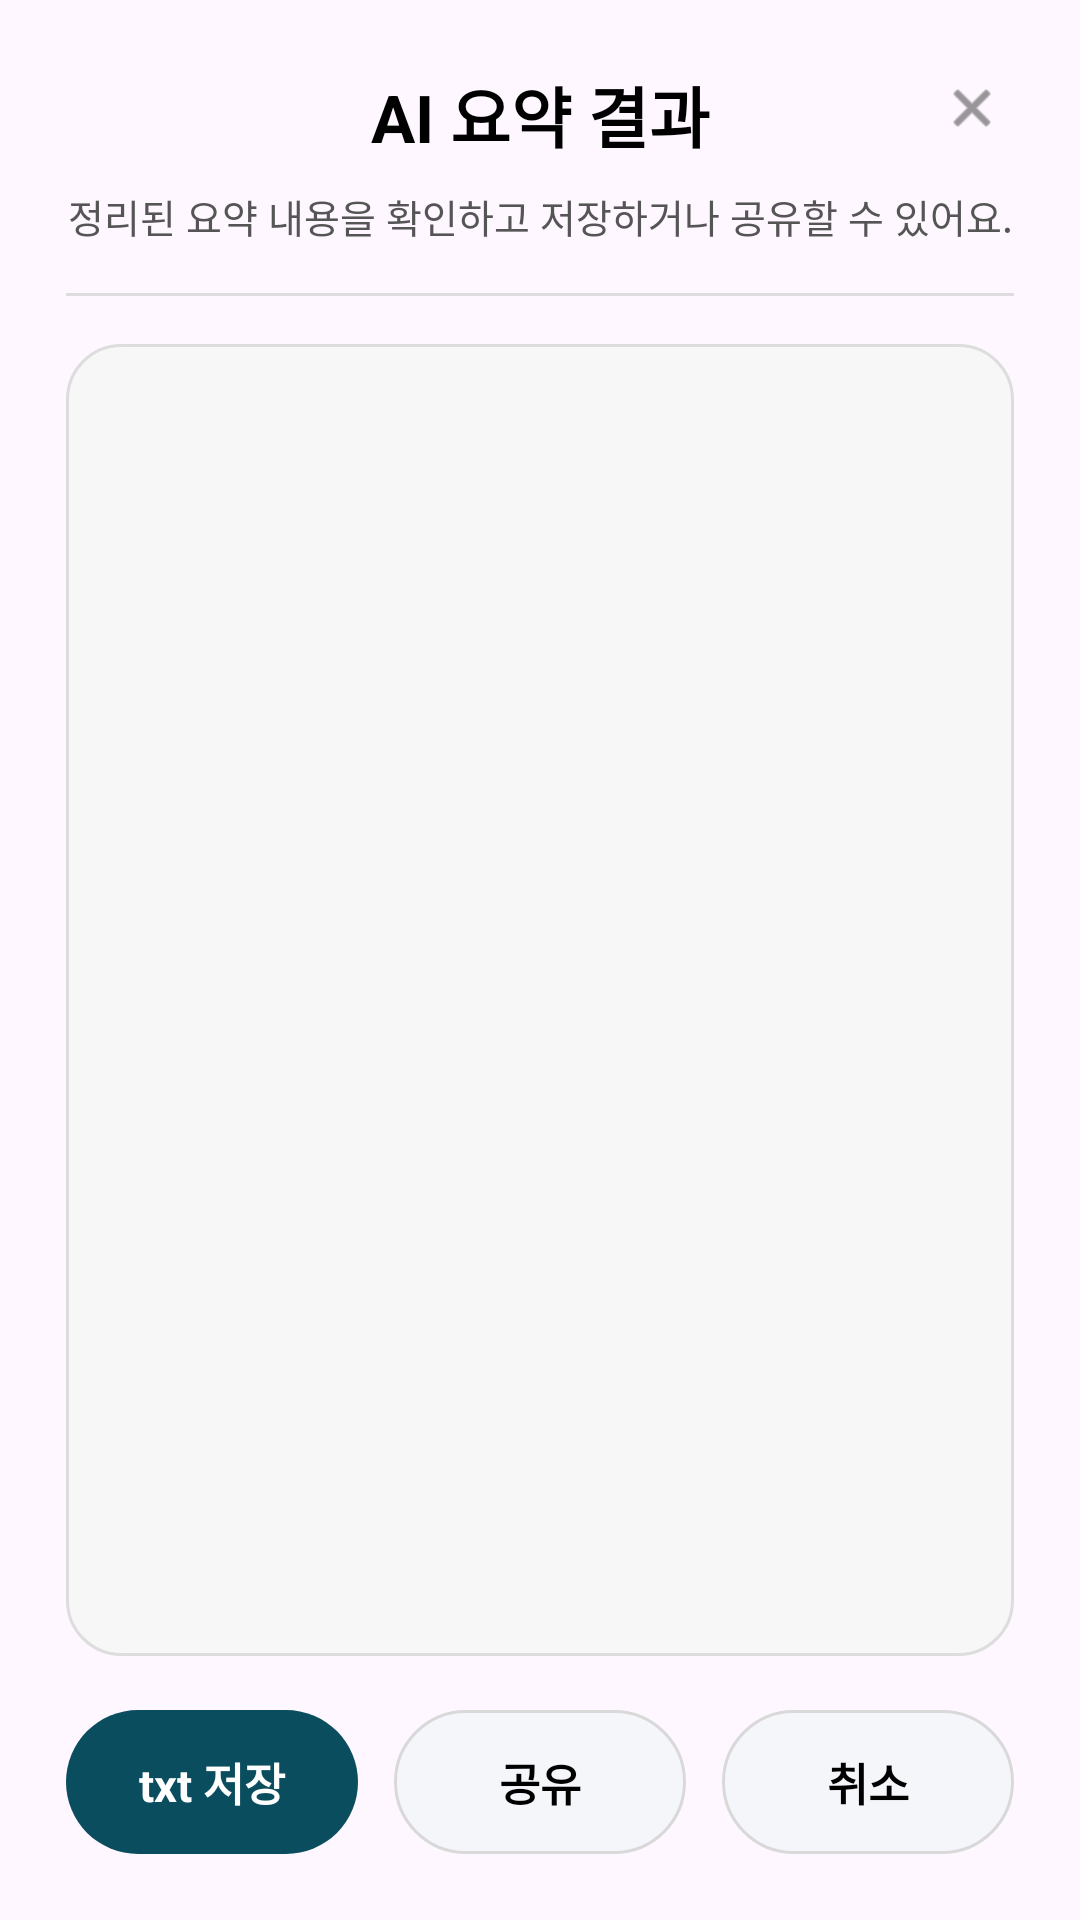

Icon bounding boxes for this 1080*1920 phone screenshot, format detection(x1, y1, x2, y2):
닫기: detection(953, 89, 991, 127)
